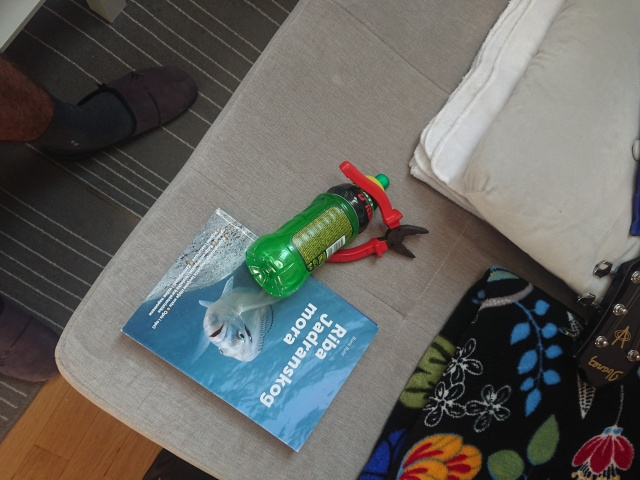Vindi Iso Sport Lemon-Grapefruit 500mL: (242, 171, 392, 302)
